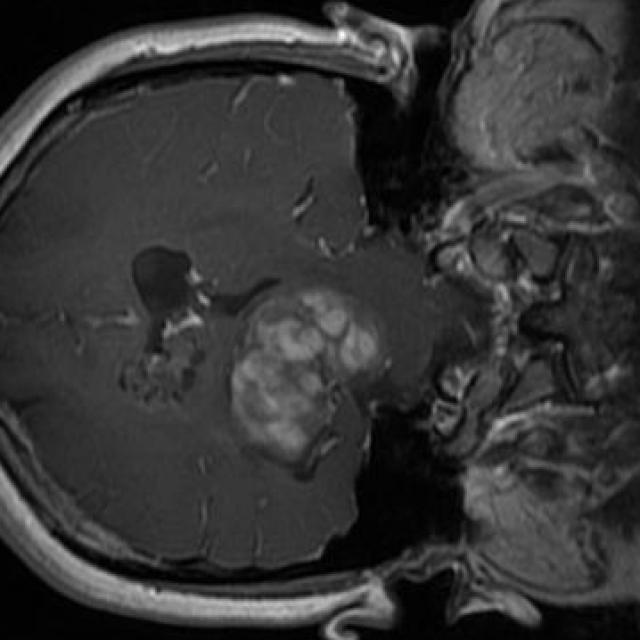glioma: (234, 287, 387, 462)
